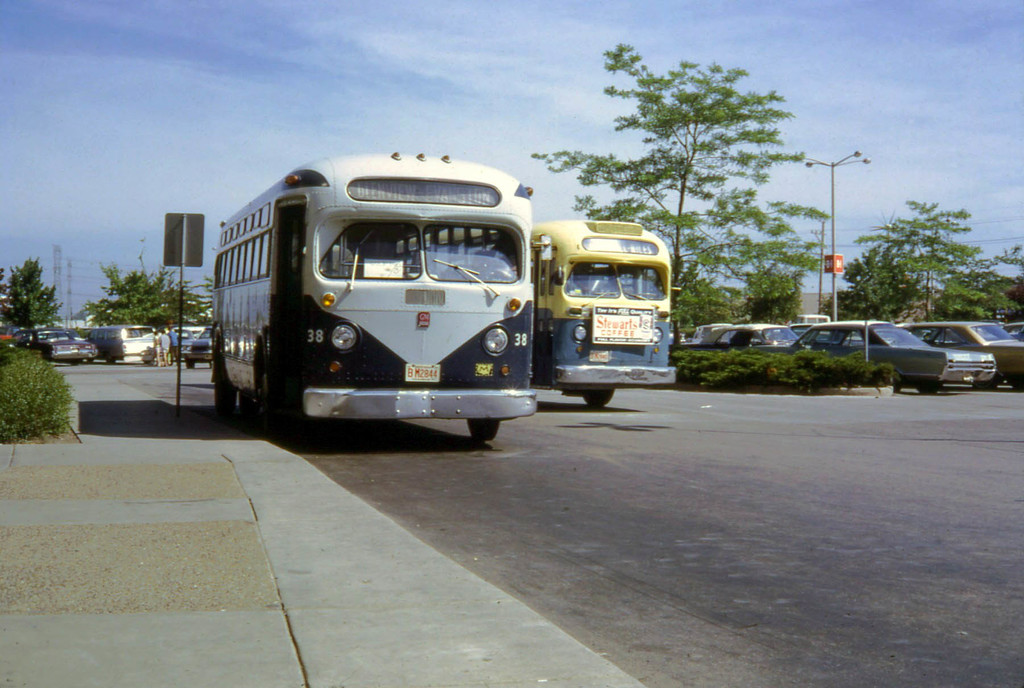car: (775, 315, 1009, 425), (16, 309, 109, 370)
truck: (192, 134, 564, 454), (525, 174, 713, 426)
